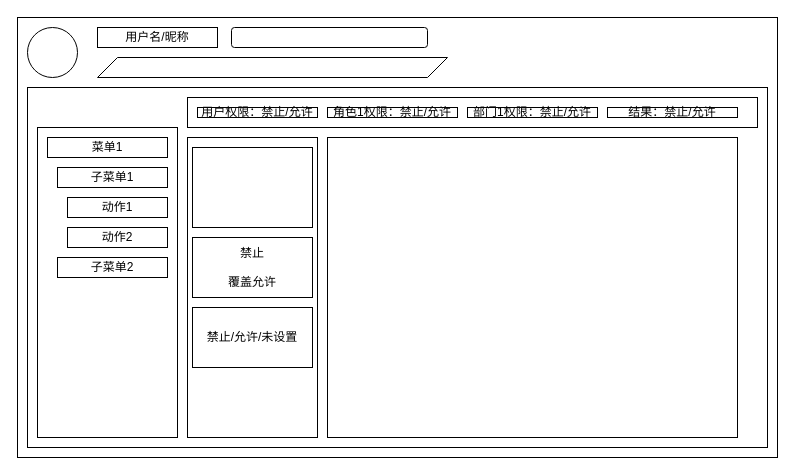
The diagram is 795 pixels wide and 475 high, and some of its shapes have lost their labels. The centre of each missing label's shape, as x and y in pixels:
"不可编辑 仅作展示" goes at [532,287].
"用户权限 覆盖角色权限 覆盖部门权限" goes at [252,187].
"角色1/角色2/角色3" goes at [272,67].
"部门1/部门2/部门3" goes at [329,37].
